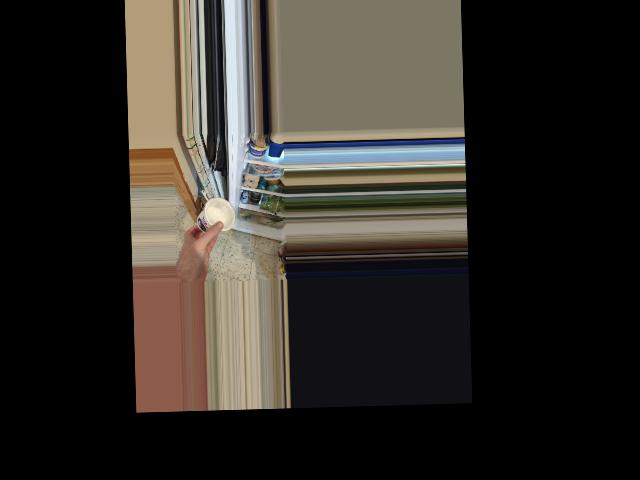cotage: (193, 194, 234, 236)
